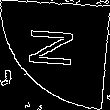N_E: (26, 33, 84, 77)
